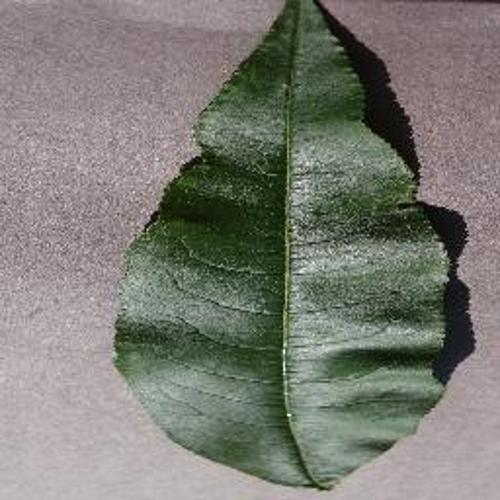Peach: (116, 0, 450, 489)
